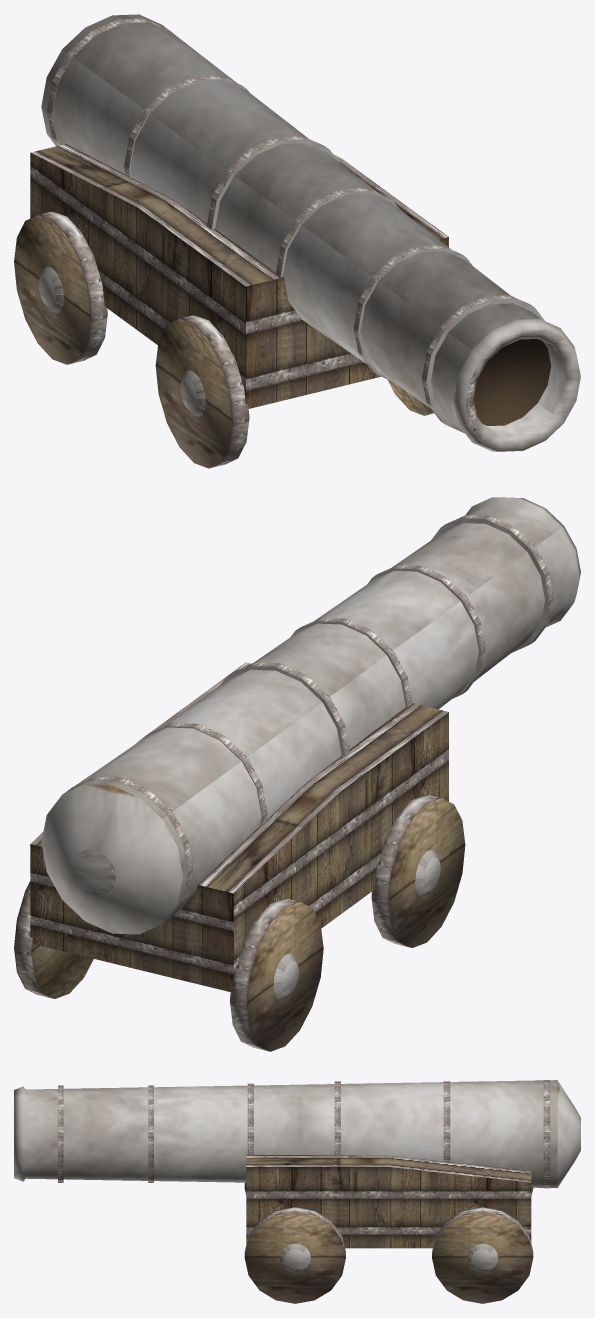
The model's file is cannon.dae.
3 views of the same model, one above another, from view 1: azimuth 30°, elevation 25°; view 2: azimuth 150°, elevation 25°; view 3: azimuth 270°, elevation 25° (orthographic). The views are drawn at different scales.
Visible parts, largest first — view 1: cannon; view 2: cannon; view 3: cannon.
Boxes of the visible parts, x1,y1,x2,y2 form: cannon: (14,14,580,468); cannon: (14,497,580,1051); cannon: (14,1080,580,1303).
Size of the model in its own units: 2.47 by 7.53 by 2.66.
